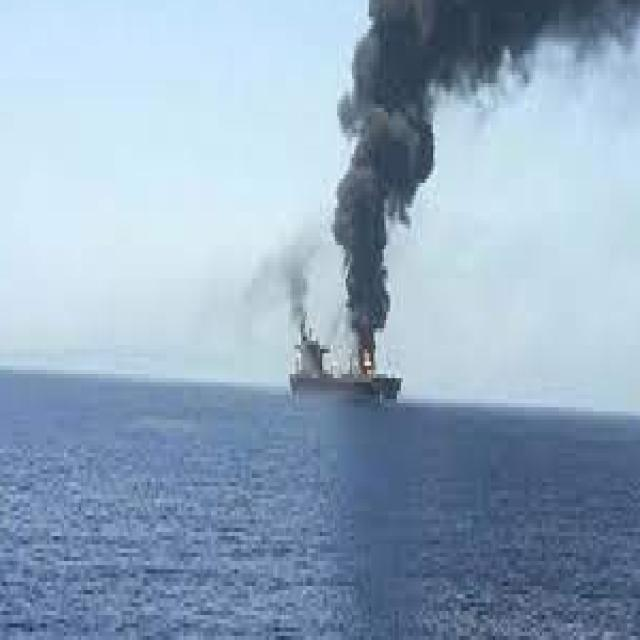cargoship: (283, 287, 419, 408)
